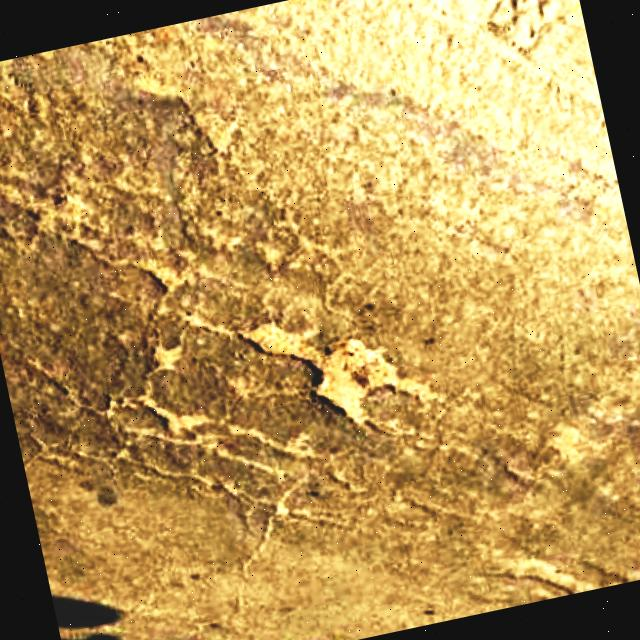pothole: (235, 284, 450, 455)
